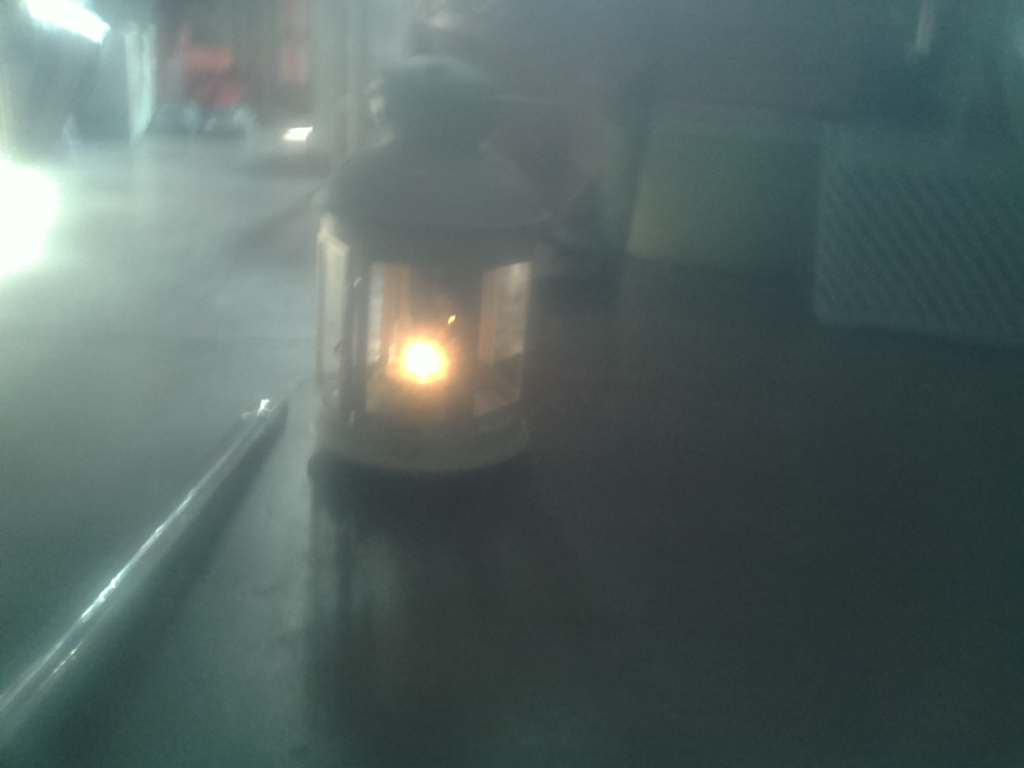fire: (378, 329, 468, 407)
